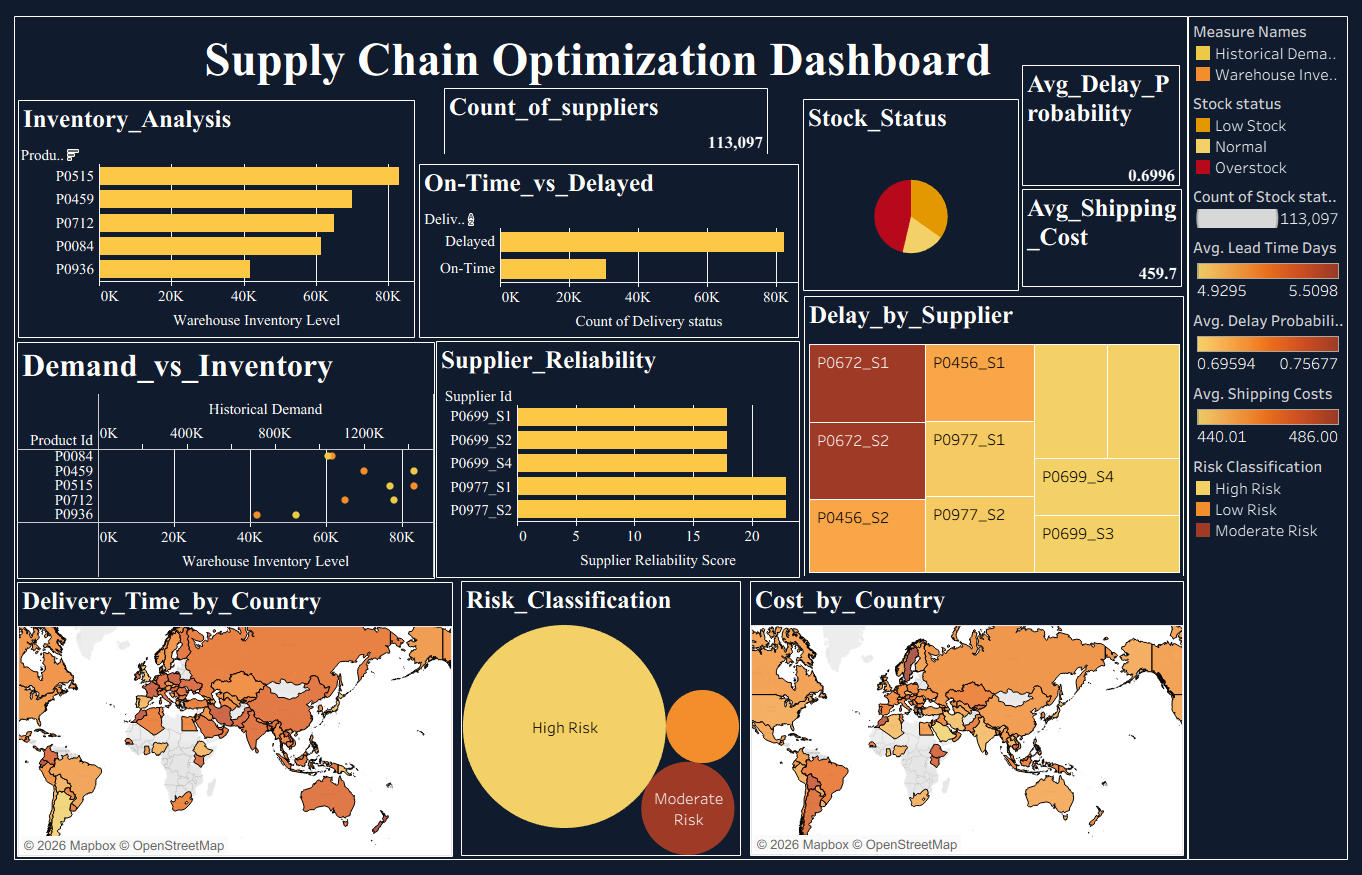

What the dashboard file says about the page in this screenshot:
{"tool":"tableau","page":{"name":"Dashboard ","canvas":[1000,1000],"units":"permille","ordinal":0},"visuals":[{"type":"legend","title":"Sheet 2","param":"[federated.0t21jqi0qymsg01ay1w3l1t6n8y2].[:Measure Names]","box":[876.3,10.6,117,84.5]},{"type":"title","box":[23.7,15.3,829.6,73.9]},{"type":"worksheet","title":"Sheet 12","mark":"Automatic","box":[752.6,65.7,117,140.8]},{"type":"worksheet","title":"Sheet 10","mark":"Automatic","box":[324.4,92.7,240,77.5]},{"type":"legend","title":"Sheet 3","param":"[federated.0t21jqi0qymsg01ay1w3l1t6n8y2].[none:Stock_status:nk]","box":[876.3,95.1,117,109.2]},{"type":"worksheet","title":"Sheet 3","mark":"Pie","box":[590.4,105.6,160,223]},{"type":"worksheet","title":"Sheet 1","mark":"Automatic","rows":["product_id"],"cols":["warehouse_inventory_level"],"box":[8.9,106.8,294.1,277]},{"type":"worksheet","title":"Sheet 6","mark":"Automatic","rows":["Delivery_status"],"cols":["Delivery_status"],"box":[305.9,181.9,281.5,201.9]},{"type":"legend","title":"Sheet 3","param":"[federated.0t21jqi0qymsg01ay1w3l1t6n8y2].[cnt:Stock_status:qk]","box":[876.3,204.2,117,59.9]},{"type":"worksheet","title":"Sheet 11","mark":"Automatic","box":[752.6,210.1,118.5,113.9]},{"type":"legend","title":"Sheet 4","param":"[federated.0t21jqi0qymsg01ay1w3l1t6n8y2].[avg:lead_time_days:qk]","box":[876.3,264.1,117,85.7]},{"type":"worksheet","title":"Sheet 5","mark":"Automatic","box":[591.1,334.5,281.5,326.3]},{"type":"legend","title":"Sheet 5","param":"[federated.0t21jqi0qymsg01ay1w3l1t6n8y2].[avg:delay_probability:qk]","box":[876.3,349.8,117,85.7]},{"type":"worksheet","title":"Sheet 8","mark":"Automatic","rows":["supplier_id"],"cols":["supplier_reliability_score"],"box":[318.5,387.3,269.6,275.8]},{"type":"worksheet","title":"Sheet 2","mark":"Automatic","rows":["product_id"],"cols":["warehouse_inventory_level","historical_demand"],"box":[8.2,388.5,309.6,275.8]},{"type":"legend","title":"Sheet 7","param":"[federated.0t21jqi0qymsg01ay1w3l1t6n8y2].[avg:shipping_costs:qk]","box":[876.3,435.4,117,85.7]},{"type":"legend","title":"Sheet 9","param":"[federated.0t21jqi0qymsg01ay1w3l1t6n8y2].[none:risk_classification:nk]","box":[876.3,521.1,117,109.2]},{"type":"worksheet","title":"Sheet 9","mark":"Circle","box":[337,666.7,207.4,319.2]},{"type":"worksheet","title":"Sheet 7","mark":"Automatic","box":[551.1,666.7,321.5,319.2]},{"type":"worksheet","title":"Sheet 4","mark":"Automatic","box":[8.2,667.8,323,319.2]}]}

Visuals, with their boxes on the dashboard's canvas, which has no fixed pixel size, in thousandths of its width and height (x1, y1, x2, y2). These are canvas units, not pixel positions in the 1362x875 screenshot, which may show the page scaled, cropped or inside an application window:
"Sheet 2" legend: (876, 11, 993, 95)
title: (24, 15, 853, 89)
"Sheet 12" worksheet: (753, 66, 870, 206)
"Sheet 10" worksheet: (324, 93, 564, 170)
"Sheet 3" legend: (876, 95, 993, 204)
"Sheet 3" worksheet (Pie marks): (590, 106, 750, 329)
"Sheet 1" worksheet: (9, 107, 303, 384)
"Sheet 6" worksheet: (306, 182, 587, 384)
"Sheet 3" legend: (876, 204, 993, 264)
"Sheet 11" worksheet: (753, 210, 871, 324)
"Sheet 4" legend: (876, 264, 993, 350)
"Sheet 5" worksheet: (591, 334, 873, 661)
"Sheet 5" legend: (876, 350, 993, 436)
"Sheet 8" worksheet: (318, 387, 588, 663)
"Sheet 2" worksheet: (8, 388, 318, 664)
"Sheet 7" legend: (876, 435, 993, 521)
"Sheet 9" legend: (876, 521, 993, 630)
"Sheet 9" worksheet (Circle marks): (337, 667, 544, 986)
"Sheet 7" worksheet: (551, 667, 873, 986)
"Sheet 4" worksheet: (8, 668, 331, 987)
